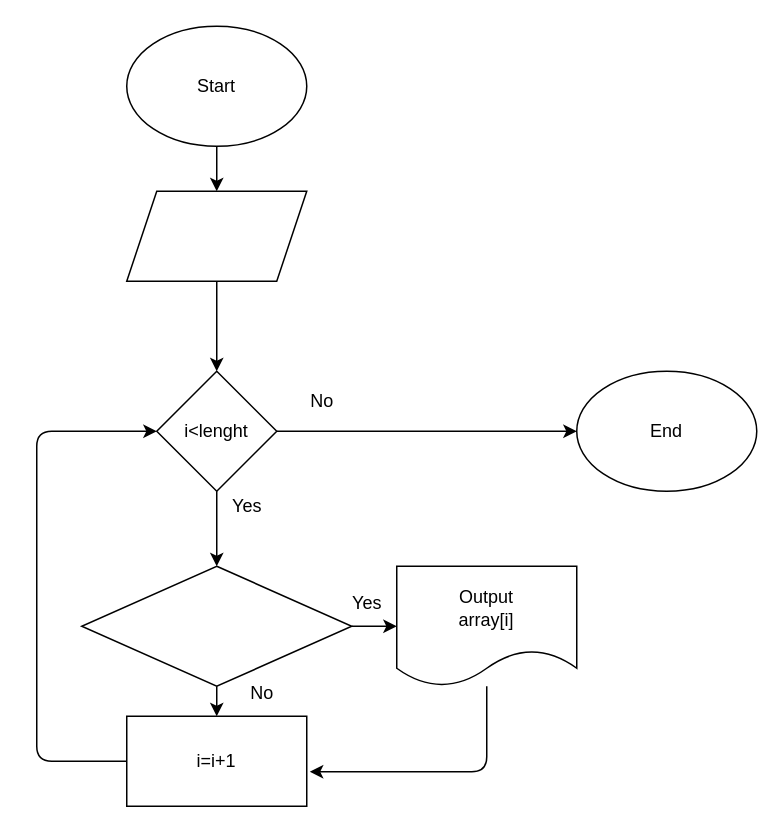
This 783x833 diagram has some shape labels left out. The box of each missing label's shape, as (x1, y1, x2, y2) in pixels:
array[i].Lenght<=3: (80, 565, 352, 686)
lenght, array, i=0: (125, 190, 307, 281)
